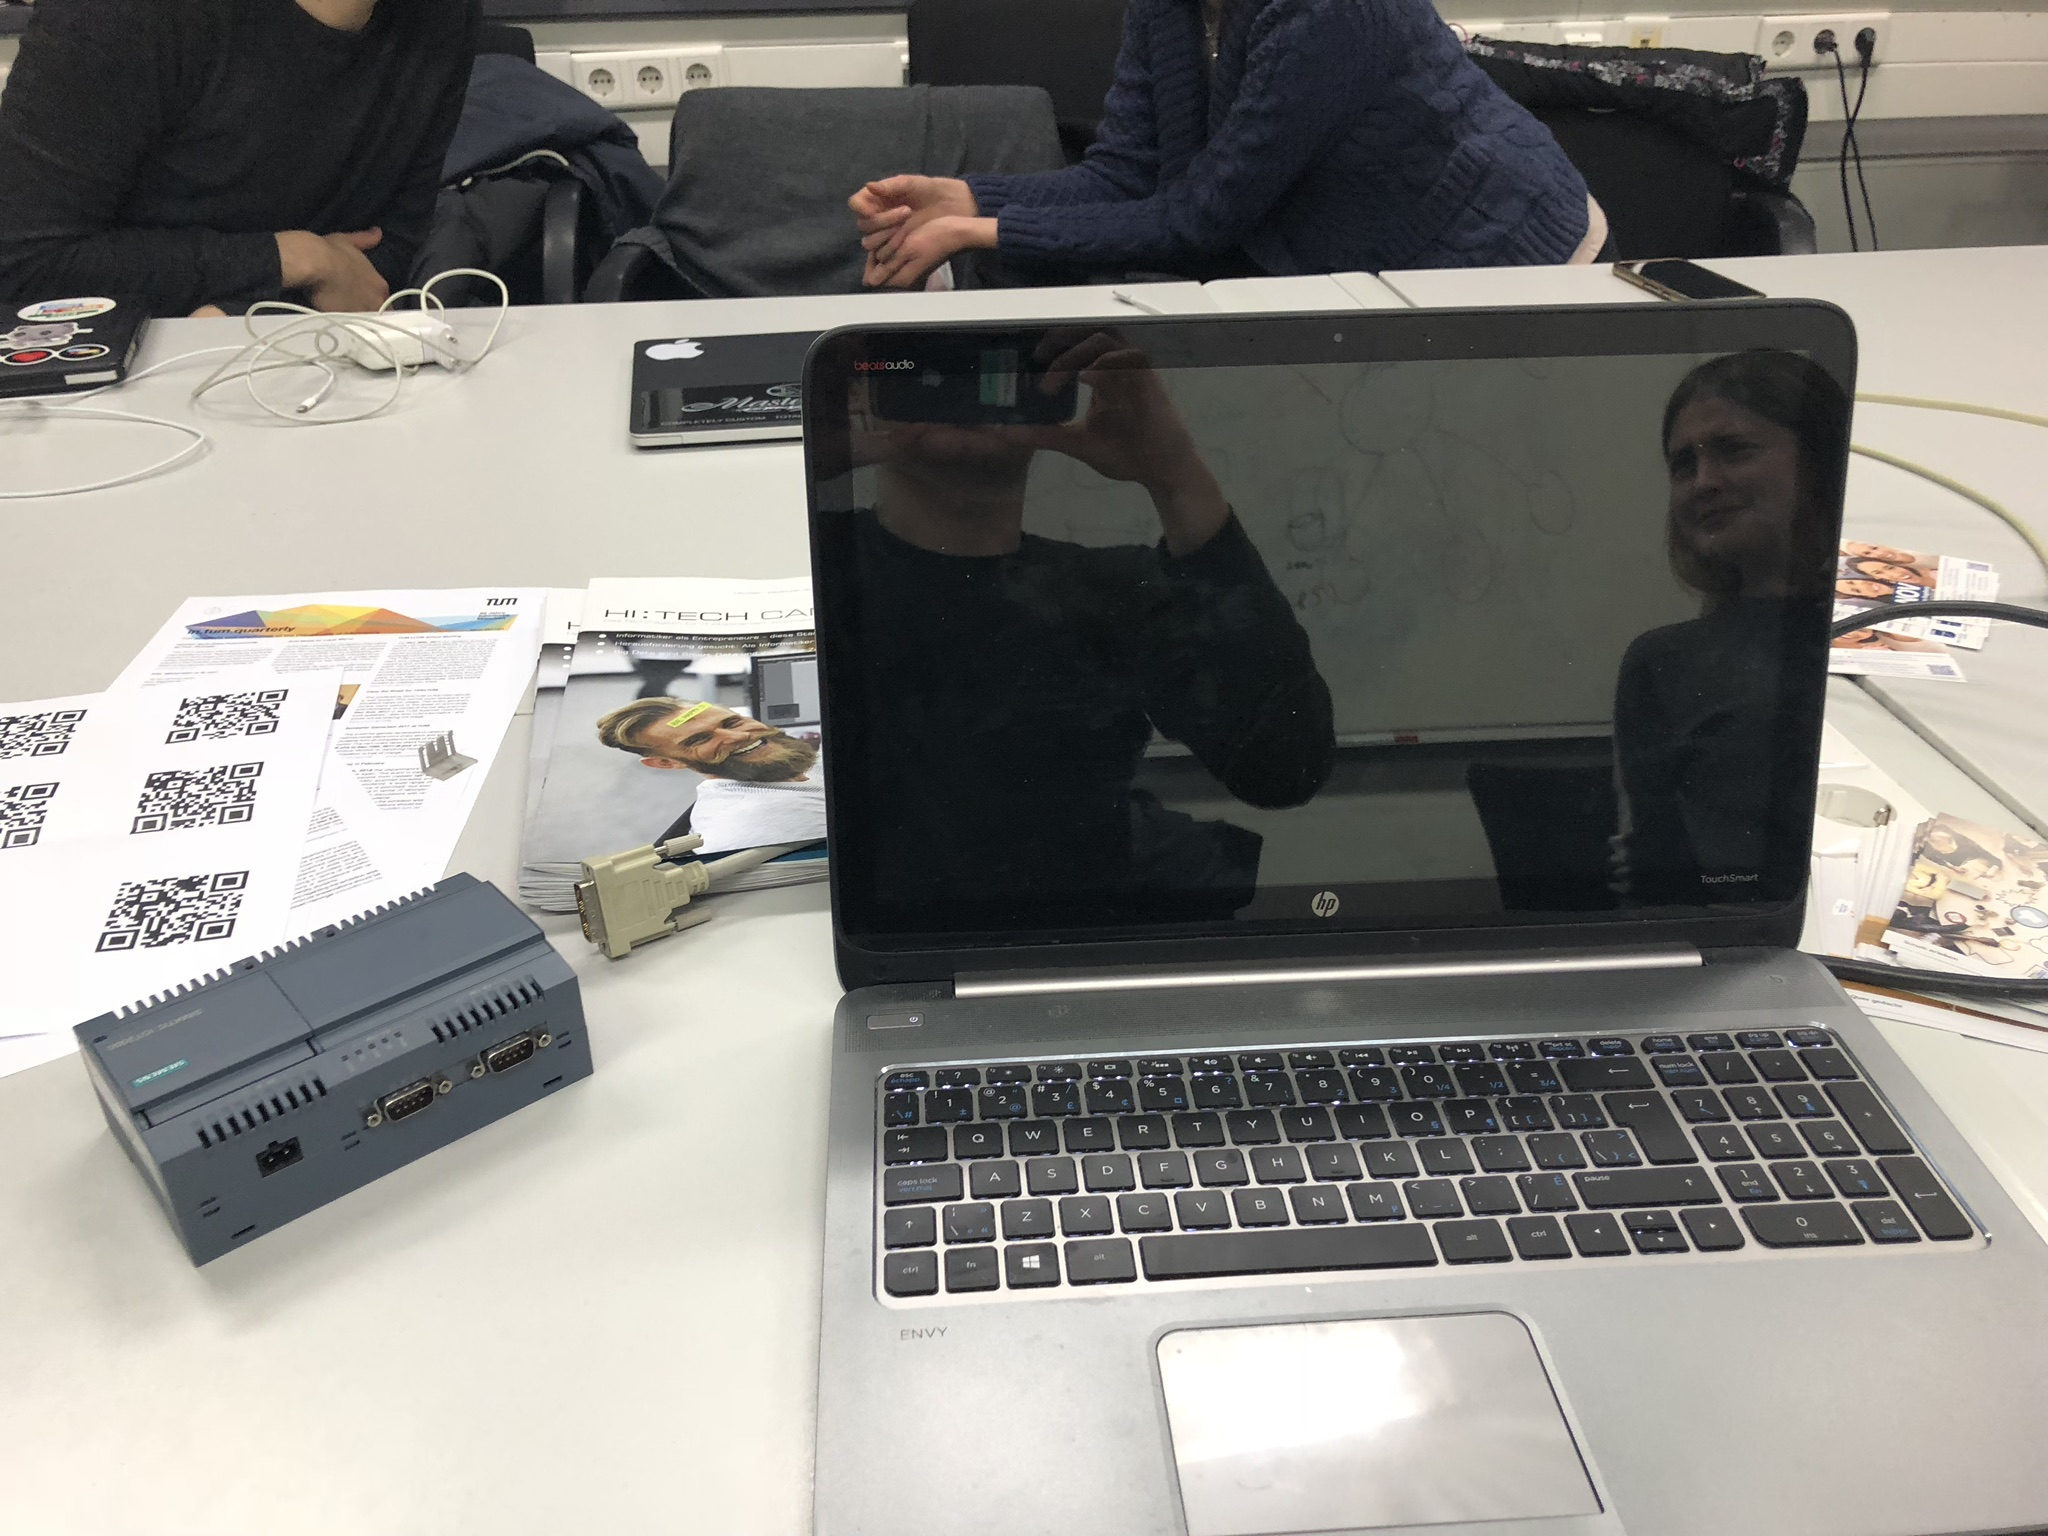device: (73, 871, 597, 1268)
